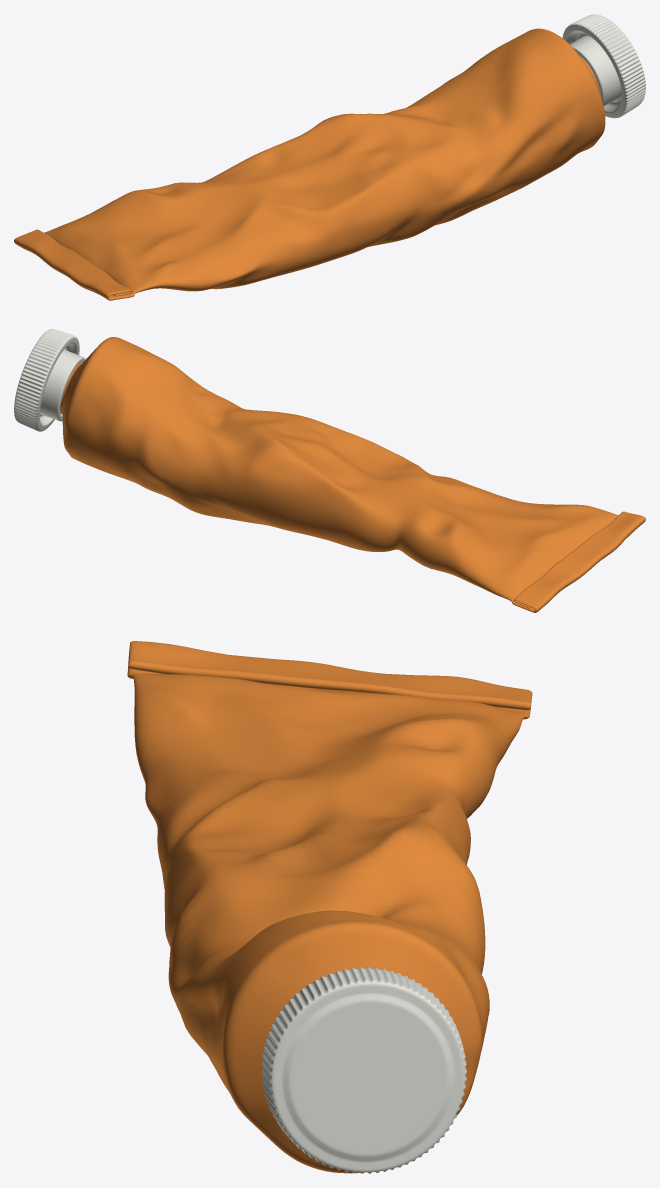
The model's file is paint_container_tube_f02.glb.
3 renders of one model, top to bottom at view 1: azimuth 30°, elevation 25°; view 2: azimuth 150°, elevation 25°; view 3: azimuth 270°, elevation 25°, orthographic. The views are drawn at different scales.
Bounding box in the file's own units: 0.109 × 0.0261 × 0.034.
